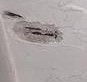Exposed reinforcement: (28, 31, 57, 39), (5, 11, 25, 20), (23, 26, 42, 31)
Spalling: (12, 20, 64, 46)
